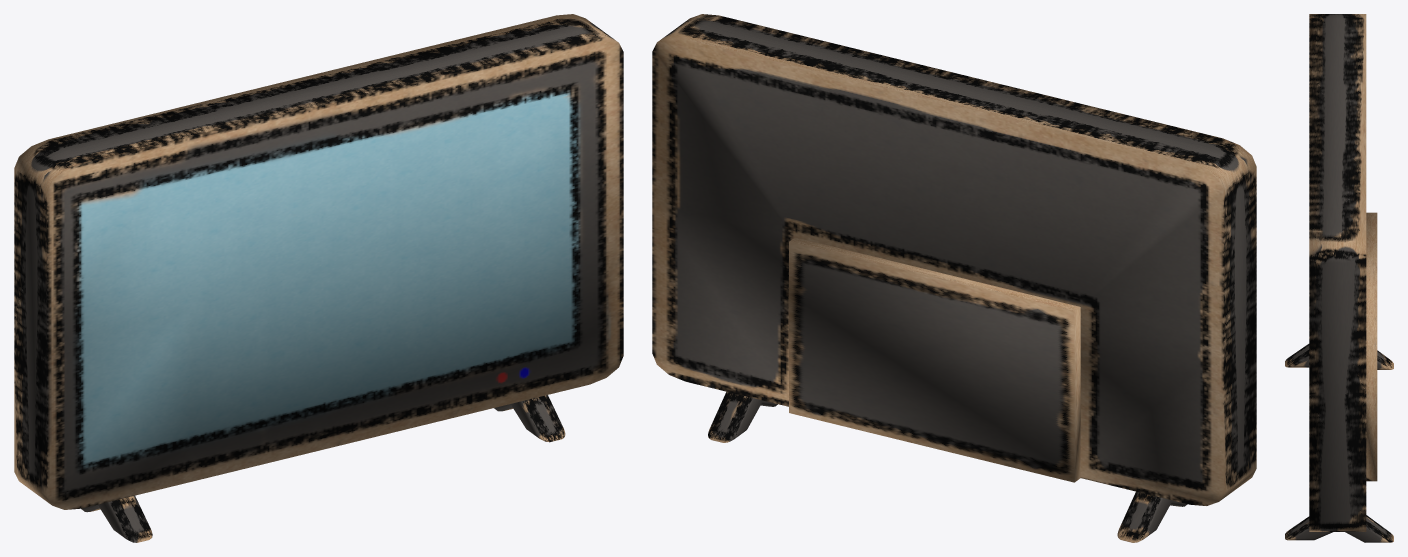
3 renders of one model, left to right at view 1: azimuth 30°, elevation 25°; view 2: azimuth 150°, elevation 25°; view 3: azimuth 270°, elevation 25°, orthographic. The views are drawn at different scales.
Parts seen in each view (by area): view 1: 20s_TV; view 2: 20s_TV; view 3: 20s_TV.
Boxes of the visible parts, x1=… form: 20s_TV: x1=14, y1=14, x2=623, y2=542; 20s_TV: x1=652, y1=14, x2=1256, y2=542; 20s_TV: x1=1285, y1=14, x2=1393, y2=542.
Size of the model in its own units: 302 by 192 by 57.73.
1 material, 1 textured.
